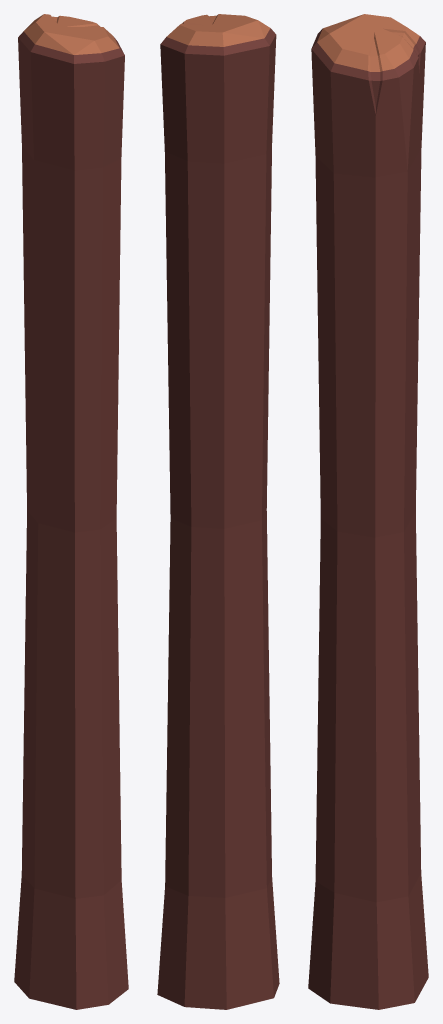
Rendered from Wooden Pole Blunt 14.fbx.
3 renders of one model, left to right at view 1: azimuth 90°, elevation 25°; view 2: azimuth 150°, elevation 25°; view 3: azimuth 330°, elevation 25°, orthographic.
Parts seen in each view (by area): view 1: Wooden Pole Blunt 14; view 2: Wooden Pole Blunt 14; view 3: Wooden Pole Blunt 14.
Boxes of the visible parts, bbox=[...] form: Wooden Pole Blunt 14: bbox=[14, 14, 128, 1009]; Wooden Pole Blunt 14: bbox=[157, 14, 279, 1009]; Wooden Pole Blunt 14: bbox=[308, 14, 428, 1009].
Size of the model in its own units: 31.5 by 273 by 29.49.
